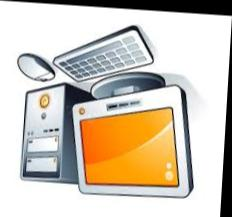keyboard: (54, 20, 157, 85)
monitor: (69, 75, 202, 201)
mouse: (12, 47, 57, 82)
pc: (12, 80, 71, 189)
